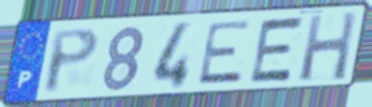4: (151, 19, 192, 91)
8: (102, 24, 147, 93)
E: (246, 14, 308, 85), (195, 18, 255, 87)
H: (297, 9, 359, 83)
P: (42, 25, 102, 96)
